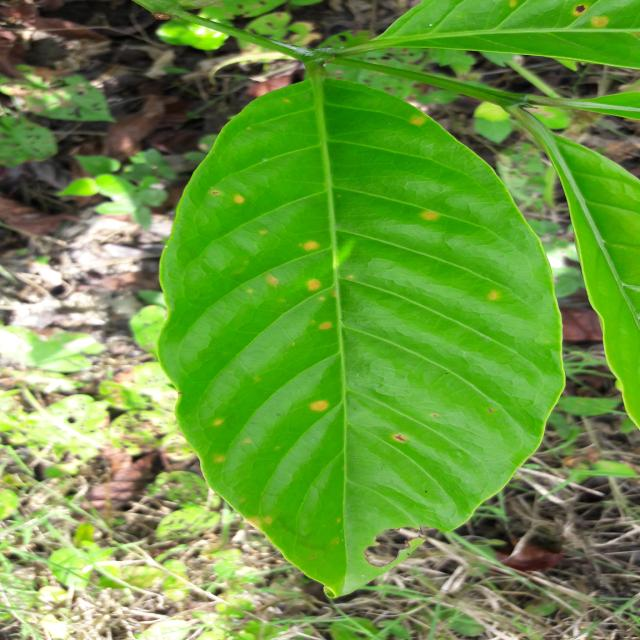Enfermedad-Roya: (159, 76, 567, 600)
